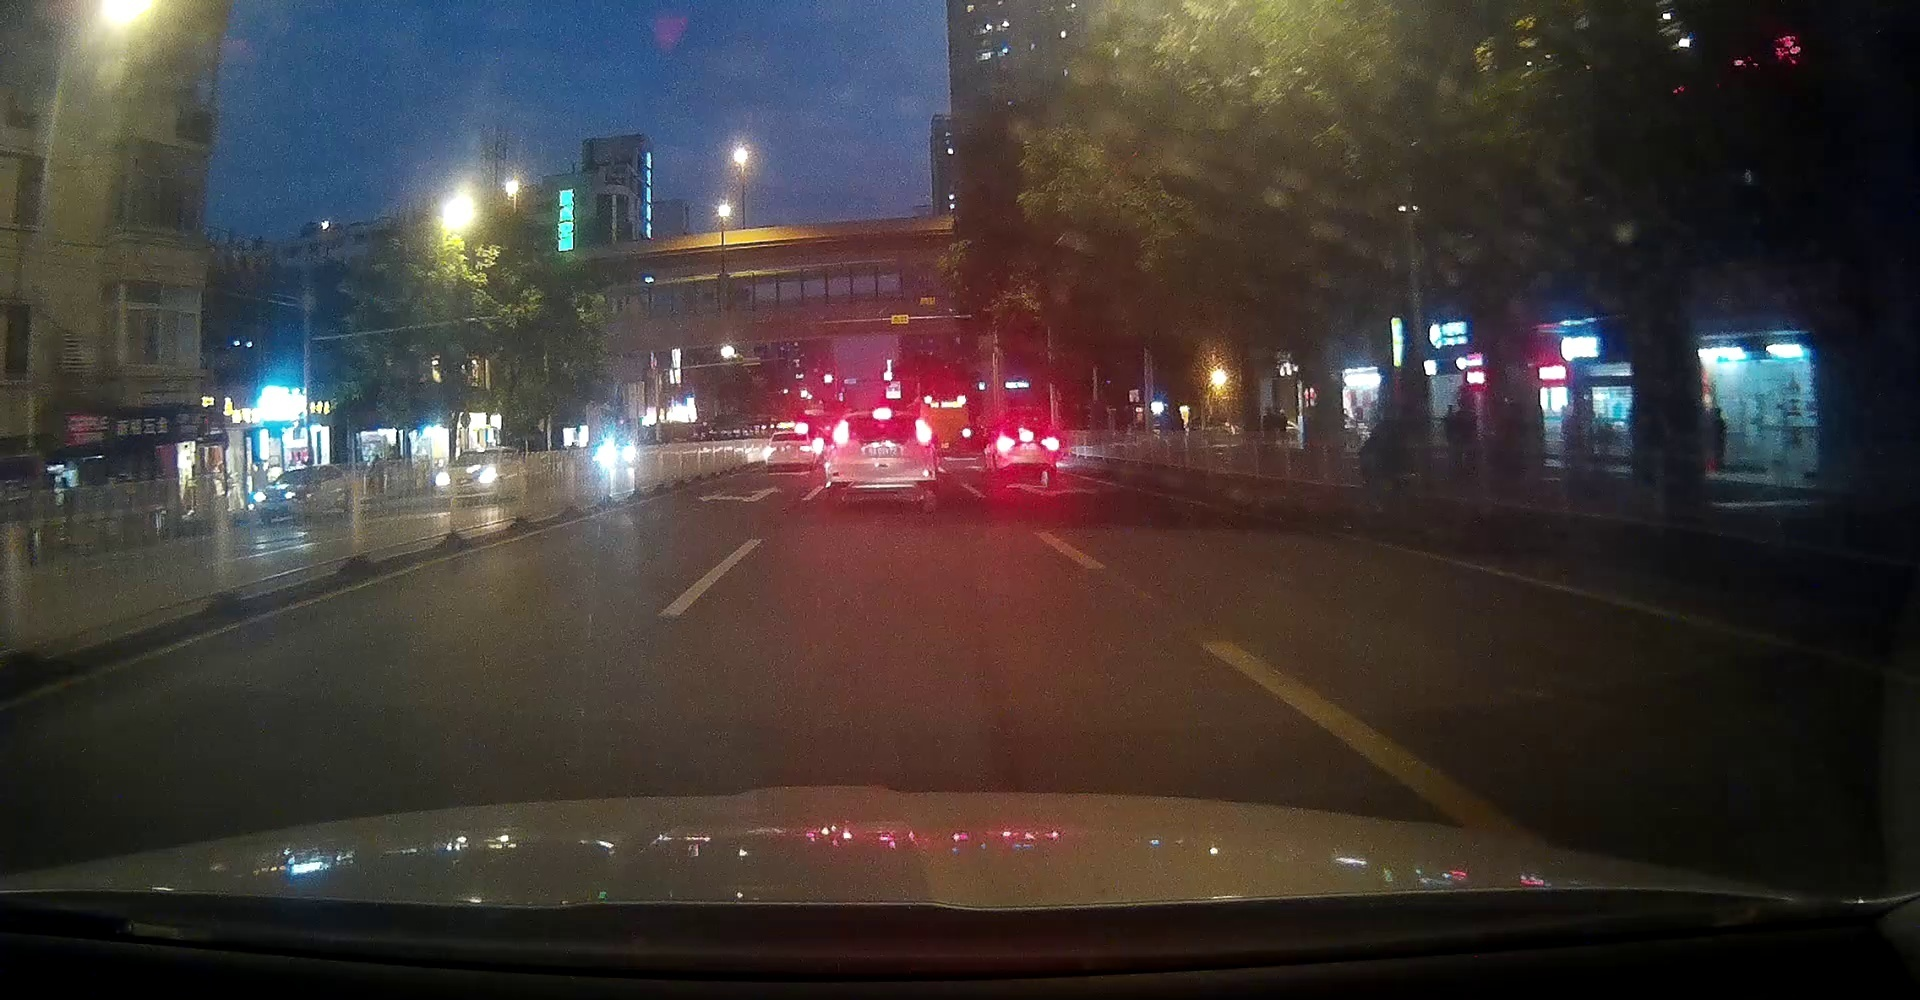L_light: (830, 419, 850, 447), (997, 435, 1015, 453), (764, 445, 775, 452)
R_light: (916, 418, 932, 445), (1041, 437, 1059, 452), (799, 445, 811, 452)
T_light: (872, 409, 891, 420), (1018, 430, 1035, 442), (786, 431, 795, 435)
night-brake: (827, 407, 933, 497)
night-no: (996, 421, 1060, 477), (763, 430, 813, 473)
